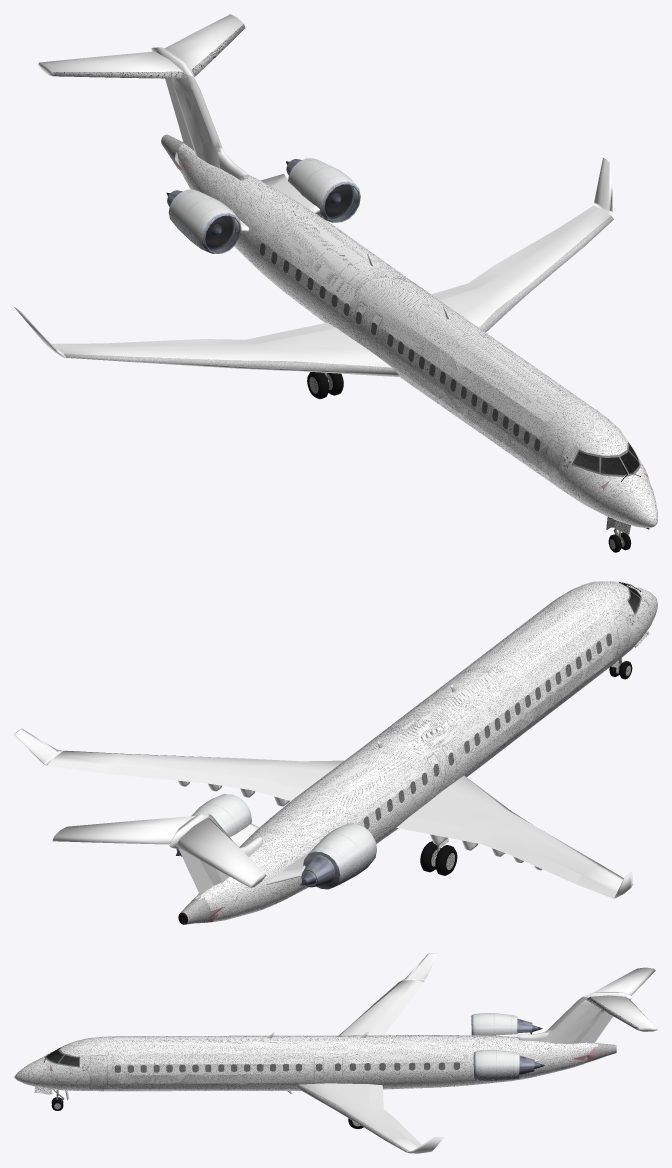
The model's file is Bombardier_CRJ_900.dae.
3 views of the same model, one above another, from view 1: azimuth 30°, elevation 25°; view 2: azimuth 150°, elevation 25°; view 3: azimuth 270°, elevation 25° (orthographic). The views are drawn at different scales.
Parts seen in each view (by area): view 1: Air_Canada_Jazz_CRJ900, group_14 (×4), Group_128 (×3), Component_54 (×2), group_16 (×2), group_2, group_10, group_15; view 2: Air_Canada_Jazz_CRJ900 (×2), group_14 (×2), Group_128 (×2), Component_54 (×3), group_16 (×2), group_2 (×2), group_15; view 3: Air_Canada_Jazz_CRJ900, group_14 (×3), Component_54 (×2), group_2 (×3), Group_128 (×2), group_10 (×3), group_16 (×2), group_15.
Part boxes in pixels (<box>): Air_Canada_Jazz_CRJ900: <box>176,142,657,527</box>; group_14 (×4): <box>51,205,613,376</box>; Group_128 (×3): <box>38,14,243,78</box>; Component_54 (×2): <box>168,158,360,253</box>; group_16 (×2): <box>105,229,564,346</box>; group_2: <box>434,372,493,437</box>; group_10: <box>173,83,209,158</box>; group_15: <box>594,158,613,218</box>; Air_Canada_Jazz_CRJ900 (×2): <box>180,581,657,924</box>; group_14 (×2): <box>47,751,622,898</box>; Group_128 (×2): <box>52,816,266,887</box>; Component_54 (×3): <box>191,794,376,889</box>; group_16 (×2): <box>107,765,581,883</box>; group_2 (×2): <box>496,650,610,754</box>; group_15: <box>14,728,64,765</box>; Air_Canada_Jazz_CRJ900: <box>14,1035,597,1091</box>; group_14 (×3): <box>295,980,423,1151</box>; Component_54 (×2): <box>471,1013,519,1081</box>; group_2 (×3): <box>90,1056,251,1090</box>; Group_128 (×2): <box>590,967,657,1031</box>; group_10 (×3): <box>542,992,633,1043</box>; group_16 (×2): <box>369,997,416,1139</box>; group_15: <box>400,953,437,981</box>.
Size of the model in its own units: 988 by 1463 by 290.
Materials: 17 (2 with a texture image).
